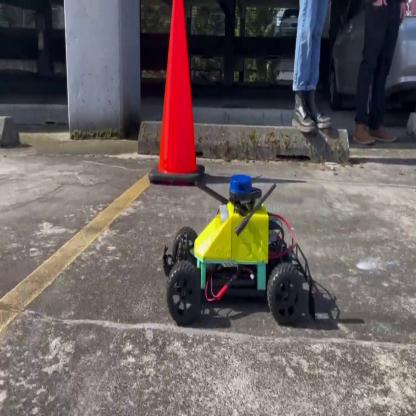cone: (148, 6, 205, 188)
mushr_car: (159, 171, 323, 329)
